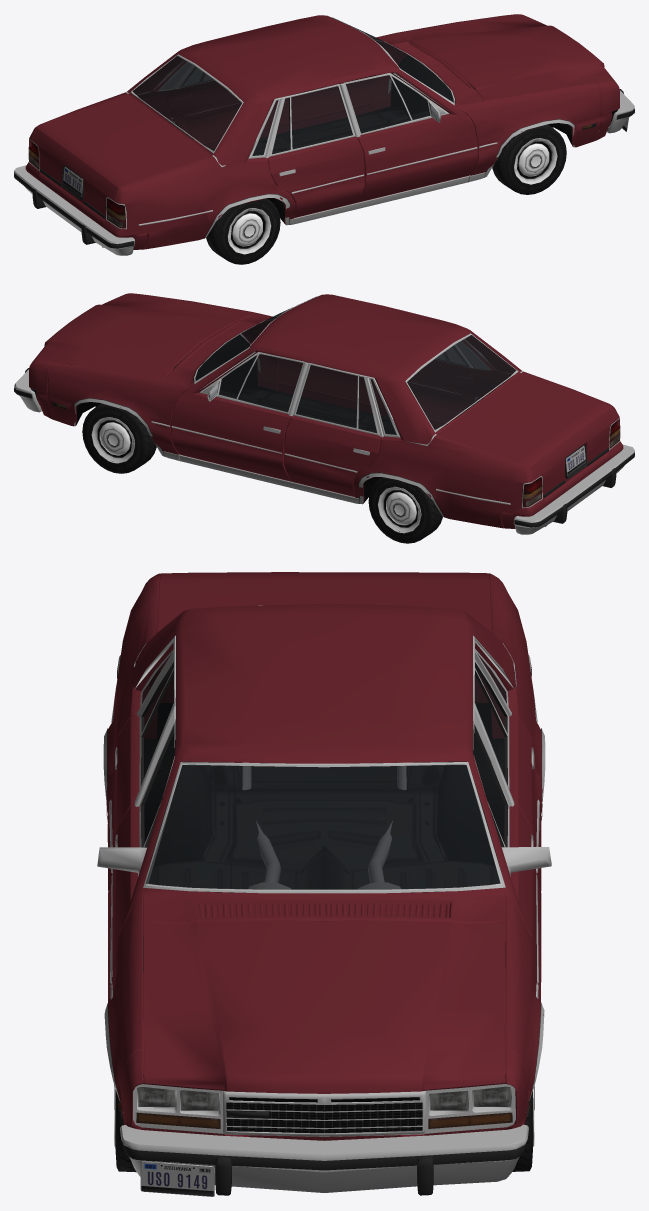
File: fairheaven_lod.gltf
The picture shows the model from 3 angles, top to bottom: view 1: azimuth 30°, elevation 25°; view 2: azimuth 150°, elevation 25°; view 3: azimuth 270°, elevation 25°; orthographic projection. The views are drawn at different scales.
Visible parts, largest first — view 1: Fairheaven_LT80_body_Fairheaven_LT80_Bodymat_0, Fairheaven_LT80_trunk_door_Fairheaven_LT80_Bodymat_0, Fairheaven_LT80_Hood_Fairheaven_LT80_Bodymat_0, Fairheaven_LT80_Grand_Trim_UCB_BOTTOM_GT_0, Fairheaven_LT80_Glass_Rear_UCB_Lights_and_Glass_Transperent_, Fairheaven_LT80_Bottom_UCB_BOTTOM_GT_0, Fairheaven_LT80_Glass_Body_UCB_Lights_and_Glass_Transperent_, Fairheaven_LT80_WheelHubcaps_FR_RB1c_Tire_1k_0, Fairheaven_LT80_WheelHubcaps_RL_RB1c_Tire_1k_0, Fairheaven_LT80_Glass_Passanger001_UCB_Lights_and_Glass_Tran, Fairheaven_LT80_bumper_rear_UCB_BOTTOM_GT_0, Fairheaven_LT80_Windshield_UCB_Lights_and_Glass_Transperent_ (+6 smaller); view 2: Fairheaven_LT80_body_Fairheaven_LT80_Bodymat_0, Fairheaven_LT80_trunk_door_Fairheaven_LT80_Bodymat_0, Fairheaven_LT80_Hood_Fairheaven_LT80_Bodymat_0, Fairheaven_LT80_Grand_Trim_UCB_BOTTOM_GT_0, Fairheaven_LT80_Glass_Rear_UCB_Lights_and_Glass_Transperent_, Fairheaven_LT80_Bottom_UCB_BOTTOM_GT_0, Fairheaven_LT80_Glass_Body_UCB_Lights_and_Glass_Transperent_, Fairheaven_LT80_WheelHubcaps_FL_RB1c_Tire_1k_0, Fairheaven_LT80_WheelHubcaps_RR_RB1c_Tire_1k_0, Fairheaven_LT80_Glass_Driver001_UCB_Lights_and_Glass_Transpe, Fairheaven_LT80_bumper_rear_UCB_BOTTOM_GT_0, Fairheaven_LT80_Windshield_UCB_Lights_and_Glass_Transperent_ (+6 smaller); view 3: Fairheaven_LT80_body_Fairheaven_LT80_Bodymat_0, Fairheaven_LT80_Hood_Fairheaven_LT80_Bodymat_0, Fairheaven_LT80_Bottom_UCB_BOTTOM_GT_0, Fairheaven_LT80_Windshield_UCB_Lights_and_Glass_Transperent_, Fairheaven_LT80_Bumper_Front_UCB_BOTTOM_GT_0, Fairheaven_LT80_Grand_Trim_UCB_BOTTOM_GT_0, Fairheaven_LT80_Front_Plate_Inner_UCB_BOTTOM_GT_0, Fairheaven_LT80_trunk_door_Fairheaven_LT80_Bodymat_0, Fairheaven_LT80_Headlights_Glass_UCB_Lights_and_Glass_Transp, Fairheaven_LT80_Front_Plate_Fairheaven_LT80_Bodymat_0, Fairheaven_LT80_Glass_Body_UCB_Lights_and_Glass_Transperent_, Fairheaven_LT80_Headlights_UCB_Lights_and_Glass_0 (+3 smaller).
Part boxes in pixels (x1=…): Fairheaven_LT80_body_Fairheaven_LT80_Bodymat_0: x1=25, y1=15, x2=601, y2=249; Fairheaven_LT80_trunk_door_Fairheaven_LT80_Bodymat_0: x1=32, y1=94, x2=211, y2=219; Fairheaven_LT80_Hood_Fairheaven_LT80_Bodymat_0: x1=393, y1=14, x2=615, y2=100; Fairheaven_LT80_Grand_Trim_UCB_BOTTOM_GT_0: x1=29, y1=28, x2=574, y2=238; Fairheaven_LT80_Glass_Rear_UCB_Lights_and_Glass_Transperent_: x1=132, y1=56, x2=241, y2=150; Fairheaven_LT80_Bottom_UCB_BOTTOM_GT_0: x1=102, y1=42, x2=596, y2=247; Fairheaven_LT80_Glass_Body_UCB_Lights_and_Glass_Transperent_: x1=163, y1=63, x2=352, y2=155; Fairheaven_LT80_WheelHubcaps_FR_RB1c_Tire_1k_0: x1=492, y1=124, x2=566, y2=194; Fairheaven_LT80_WheelHubcaps_RL_RB1c_Tire_1k_0: x1=206, y1=198, x2=280, y2=264; Fairheaven_LT80_Glass_Passanger001_UCB_Lights_and_Glass_Tran: x1=346, y1=75, x2=428, y2=132; Fairheaven_LT80_bumper_rear_UCB_BOTTOM_GT_0: x1=14, y1=165, x2=134, y2=255; Fairheaven_LT80_Windshield_UCB_Lights_and_Glass_Transperent_: x1=331, y1=17, x2=453, y2=102; Fairheaven_LT80_body_Fairheaven_LT80_Bodymat_0: x1=47, y1=294, x2=623, y2=528; Fairheaven_LT80_trunk_door_Fairheaven_LT80_Bodymat_0: x1=437, y1=373, x2=616, y2=498; Fairheaven_LT80_Hood_Fairheaven_LT80_Bodymat_0: x1=33, y1=294, x2=255, y2=379; Fairheaven_LT80_Grand_Trim_UCB_BOTTOM_GT_0: x1=74, y1=296, x2=619, y2=517; Fairheaven_LT80_Glass_Rear_UCB_Lights_and_Glass_Transperent_: x1=407, y1=335, x2=516, y2=429; Fairheaven_LT80_Bottom_UCB_BOTTOM_GT_0: x1=52, y1=321, x2=547, y2=526; Fairheaven_LT80_Glass_Body_UCB_Lights_and_Glass_Transperent_: x1=296, y1=342, x2=485, y2=434; Fairheaven_LT80_WheelHubcaps_FL_RB1c_Tire_1k_0: x1=82, y1=403, x2=156, y2=473; Fairheaven_LT80_WheelHubcaps_RR_RB1c_Tire_1k_0: x1=368, y1=477, x2=442, y2=543; Fairheaven_LT80_Glass_Driver001_UCB_Lights_and_Glass_Transpe: x1=220, y1=354, x2=302, y2=411; Fairheaven_LT80_bumper_rear_UCB_BOTTOM_GT_0: x1=513, y1=444, x2=634, y2=534; Fairheaven_LT80_Windshield_UCB_Lights_and_Glass_Transperent_: x1=195, y1=296, x2=316, y2=380; Fairheaven_LT80_body_Fairheaven_LT80_Bodymat_0: x1=106, y1=573, x2=543, y2=1124; Fairheaven_LT80_Hood_Fairheaven_LT80_Bodymat_0: x1=143, y1=920, x2=505, y2=1093; Fairheaven_LT80_Bottom_UCB_BOTTOM_GT_0: x1=118, y1=703, x2=530, y2=1122; Fairheaven_LT80_Windshield_UCB_Lights_and_Glass_Transperent_: x1=145, y1=764, x2=500, y2=889; Fairheaven_LT80_Bumper_Front_UCB_BOTTOM_GT_0: x1=120, y1=1124, x2=528, y2=1195; Fairheaven_LT80_Grand_Trim_UCB_BOTTOM_GT_0: x1=97, y1=605, x2=551, y2=1112; Fairheaven_LT80_Front_Plate_Inner_UCB_BOTTOM_GT_0: x1=133, y1=1074, x2=515, y2=1136; Fairheaven_LT80_trunk_door_Fairheaven_LT80_Bodymat_0: x1=157, y1=572, x2=491, y2=632; Fairheaven_LT80_Headlights_Glass_UCB_Lights_and_Glass_Transp: x1=136, y1=1086, x2=512, y2=1128; Fairheaven_LT80_Front_Plate_Fairheaven_LT80_Bodymat_0: x1=122, y1=1050, x2=526, y2=1140; Fairheaven_LT80_Glass_Body_UCB_Lights_and_Glass_Transperent_: x1=142, y1=653, x2=506, y2=777; Fairheaven_LT80_Headlights_UCB_Lights_and_Glass_0: x1=138, y1=1087, x2=510, y2=1110.
Bounding box in the file's own units: 5 × 1.35 × 1.82.
6 materials, 5 textured.
